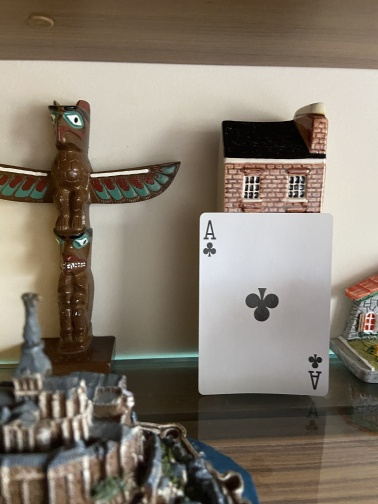ace: (196, 211, 335, 397)
